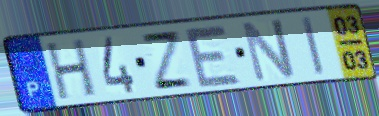4: (101, 34, 137, 96)
E: (181, 24, 244, 90)
H: (45, 36, 99, 103)
I: (299, 14, 328, 77)
N: (239, 16, 298, 85)
Z: (138, 30, 196, 92)
